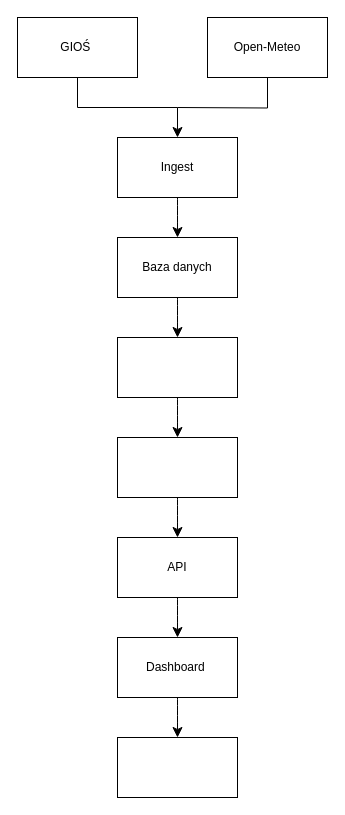
Some shapes in this 345 by 815 pixel diagram are drawn without their labels. Each missing label, with the centre of its shape:
Model: the point at 177,467
Processing: the point at 177,367
Użytkownik: the point at 177,767
